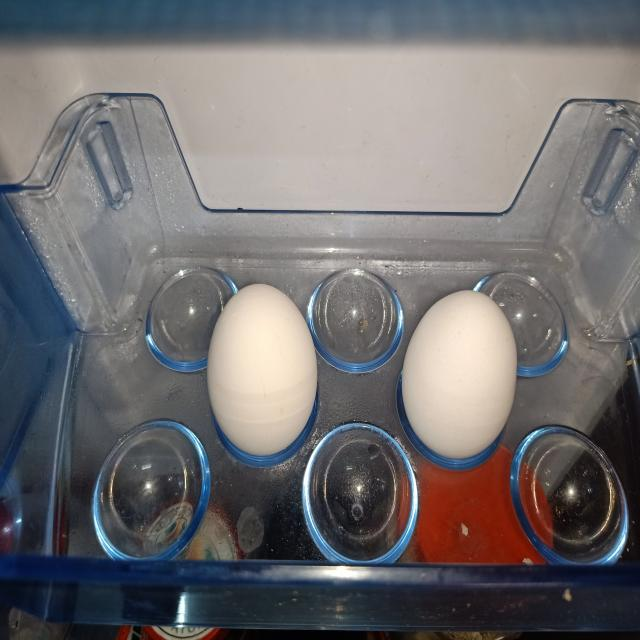Egg: (196, 270, 329, 498), (391, 270, 529, 468)
